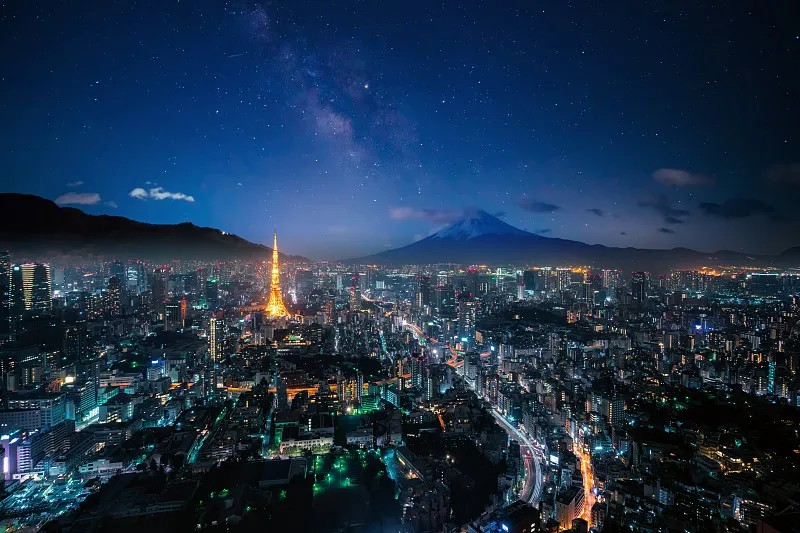Tokyo: (261, 224, 291, 318)
